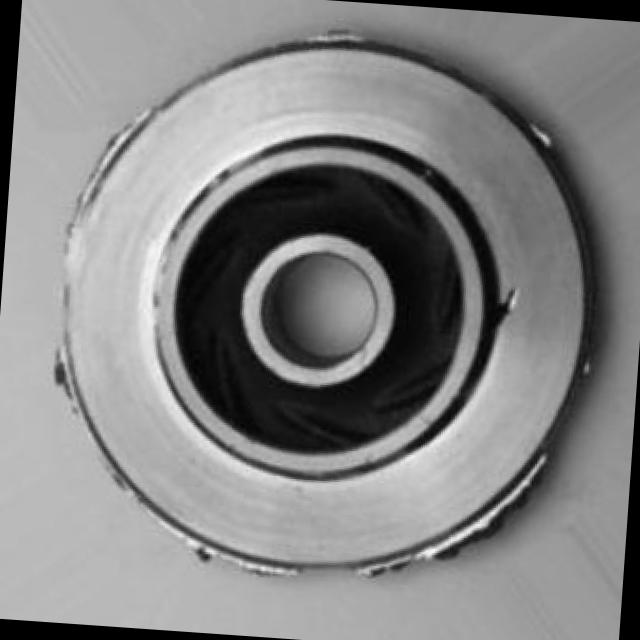Defect: (488, 280, 531, 326)
